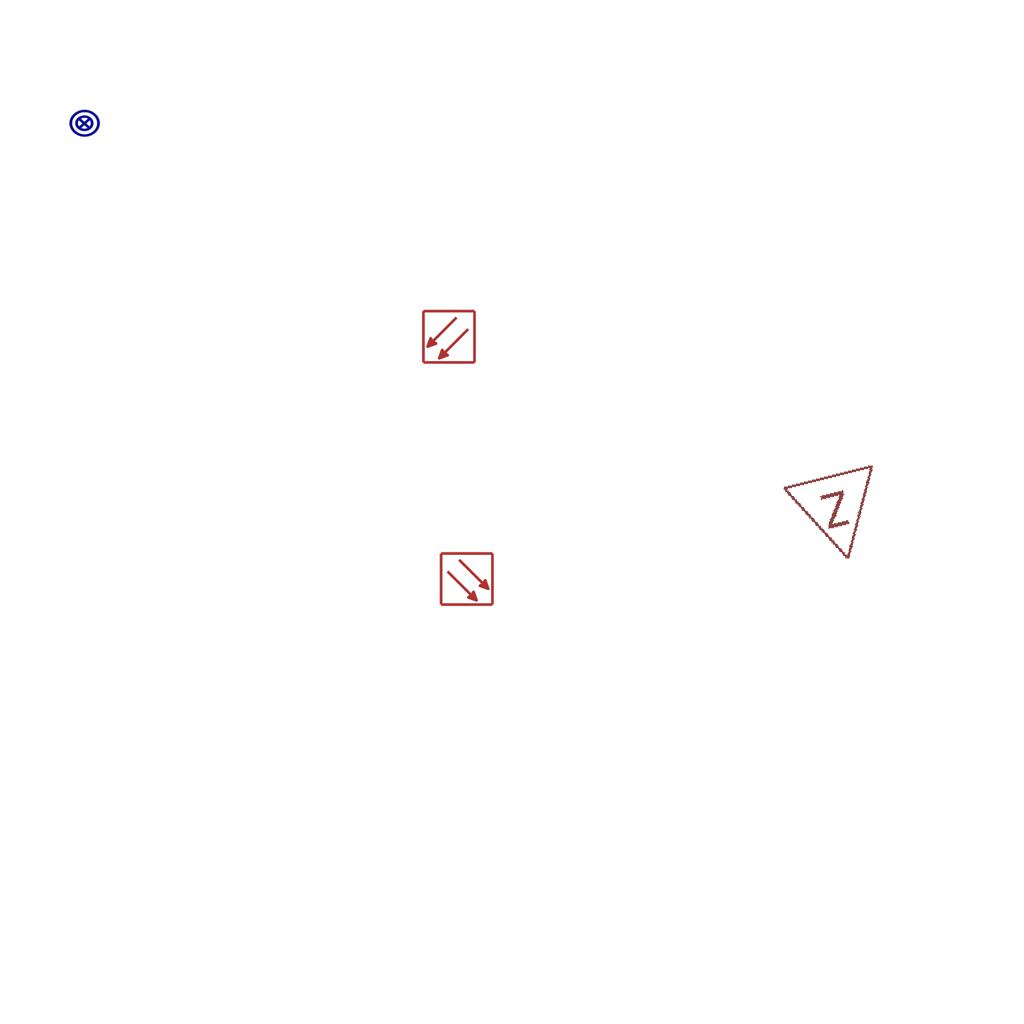RMO_Rauchmelder_optischer: (439, 551, 495, 607), (421, 309, 477, 365)
Taster_beleuchtet: (68, 107, 101, 140)
Zimmersignalleuchte: (779, 456, 899, 578)
